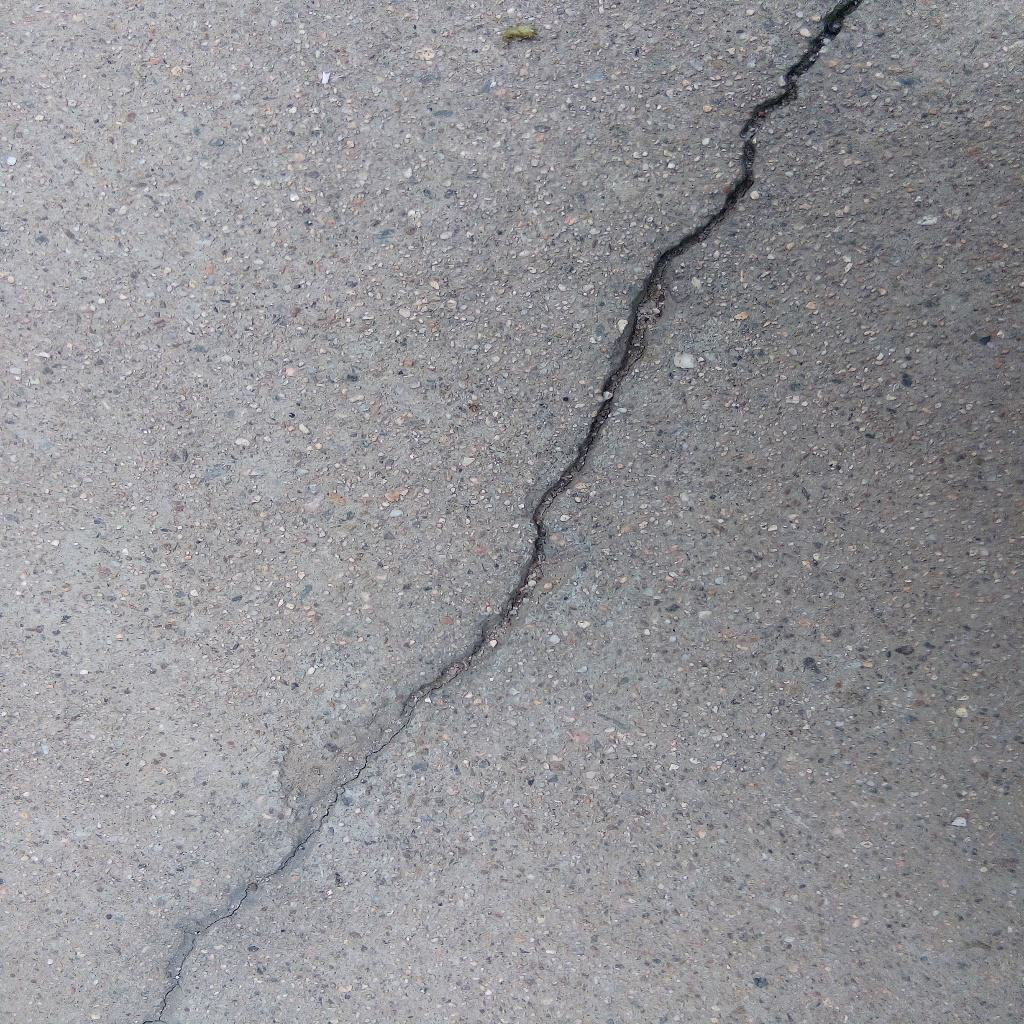Crack: (139, 1, 862, 1024)
